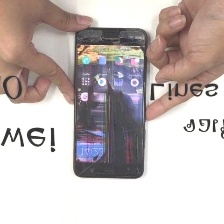phone: (69, 23, 151, 186)
